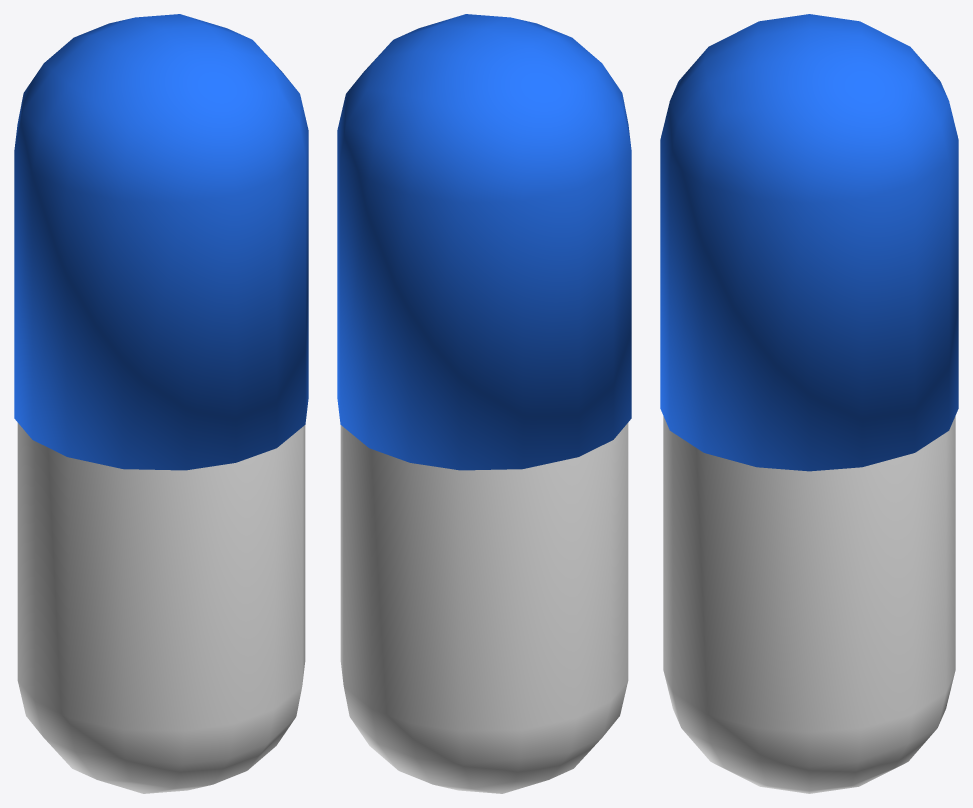
Rendered from 3D_Sibyl202604_Pill_B.fbx.
3 views of the same model, side by side, from view 1: azimuth 30°, elevation 25°; view 2: azimuth 150°, elevation 25°; view 3: azimuth 270°, elevation 25° (orthographic).
Visible parts, largest first — view 1: Pill1.004; view 2: Pill1.004; view 3: Pill1.004.
Part boxes in pixels (x1,y1,x2,y2): Pill1.004: (14,14,308,793); Pill1.004: (337,14,631,793); Pill1.004: (660,14,958,793).
Size of the model in its own units: 2.04 by 2.04 by 5.67.
